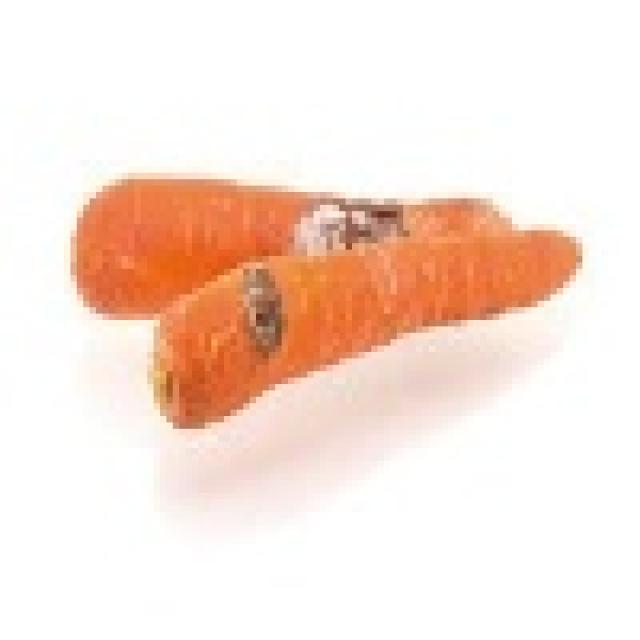Stale_Carrot: (158, 229, 579, 424), (74, 180, 512, 316)
